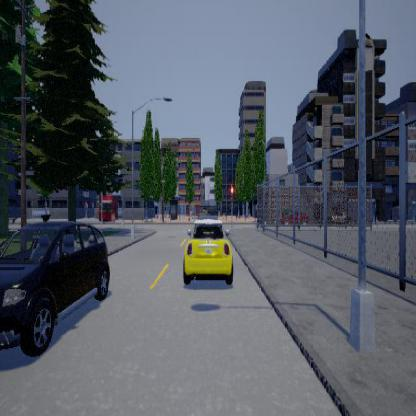traffic_light_red: (230, 184, 233, 205)
vehicle: (0, 220, 109, 356), (182, 214, 232, 284)
